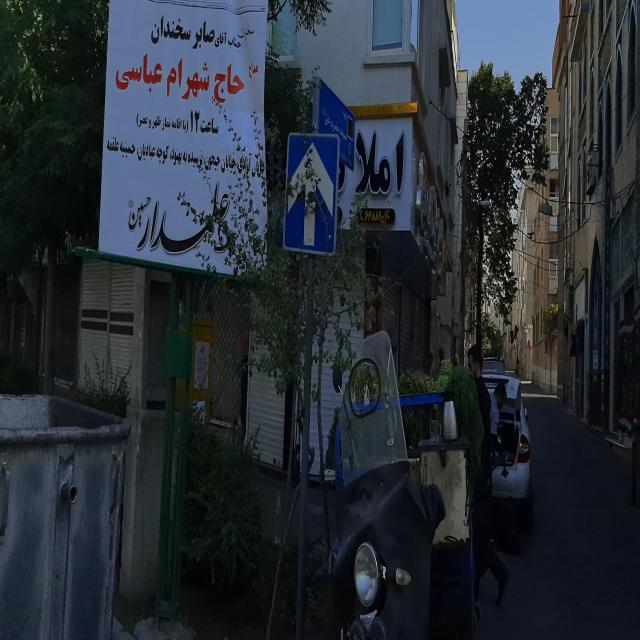one way traffic: (287, 144, 334, 252)
